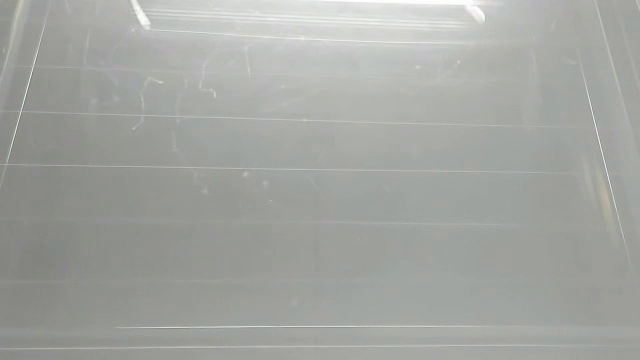alpha: (123, 1, 155, 32), (464, 1, 487, 26)
